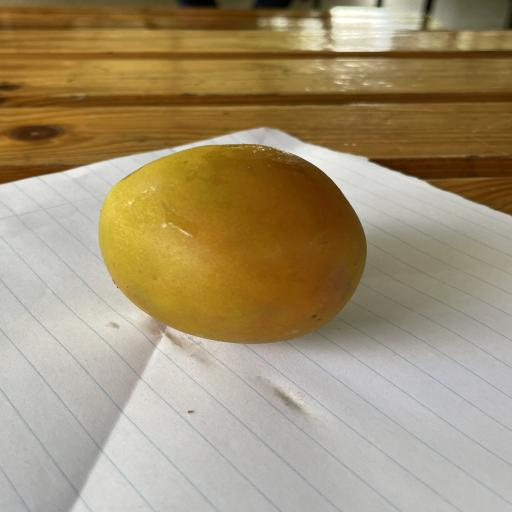unripe: (99, 143, 366, 343)
